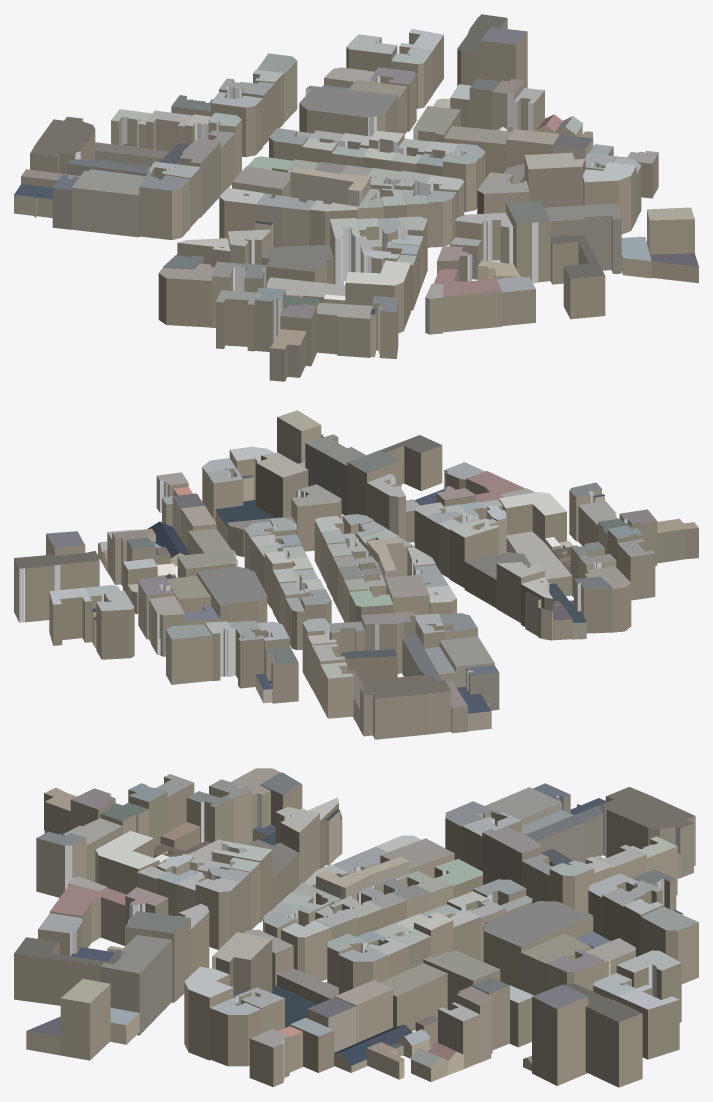
3 renders of one model, top to bottom at view 1: azimuth 30°, elevation 25°; view 2: azimuth 150°, elevation 25°; view 3: azimuth 270°, elevation 25°, orthographic. The views are drawn at different scales.
Parts seen in each view (by area): view 1: tuile; view 2: tuile; view 3: tuile.
Boxes of the visible parts, bbox=[...] form: tuile: bbox=[14, 14, 698, 381]; tuile: bbox=[14, 410, 698, 739]; tuile: bbox=[14, 768, 698, 1087].
Bounding box in the file's own units: 267 × 38.68 × 278.
